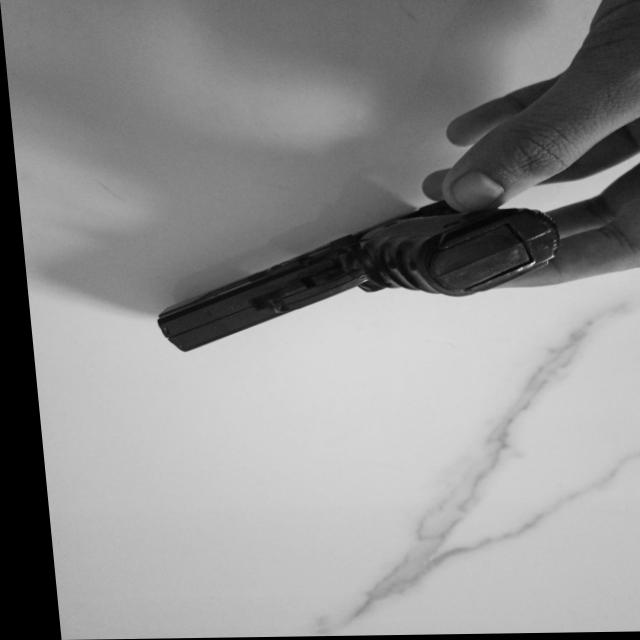handgun: (143, 201, 562, 358)
